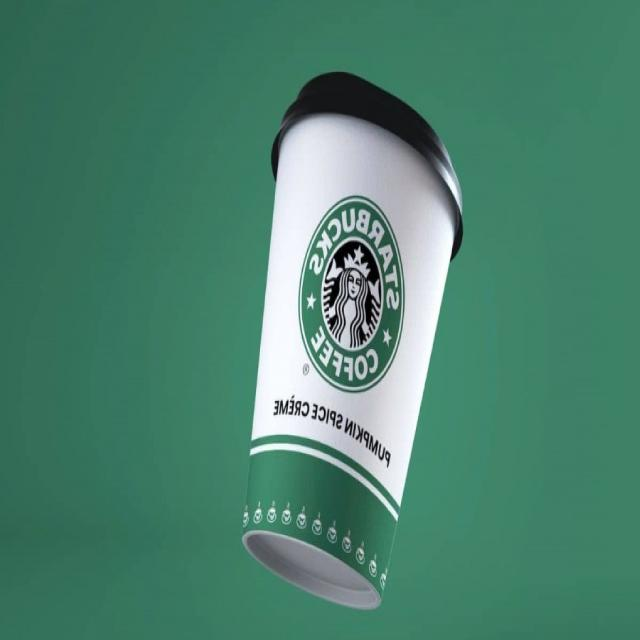starbucks: (298, 191, 409, 399)
